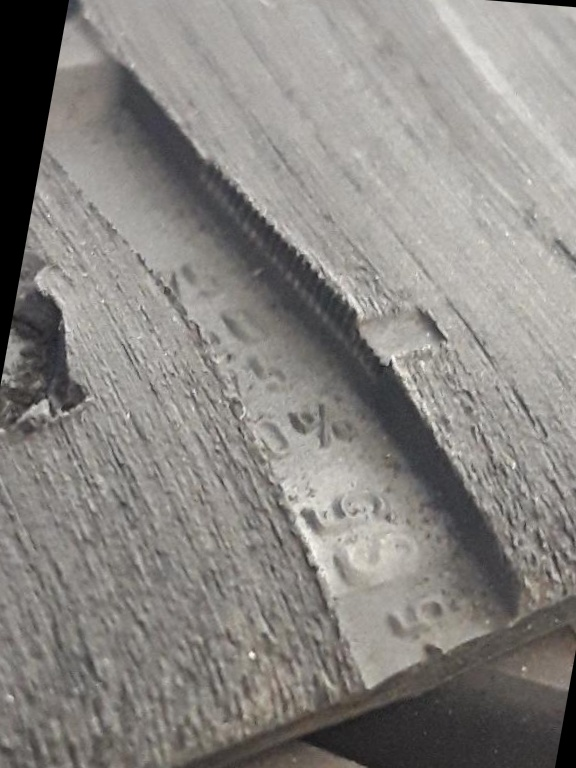temoin:0: (315, 268, 471, 396)
